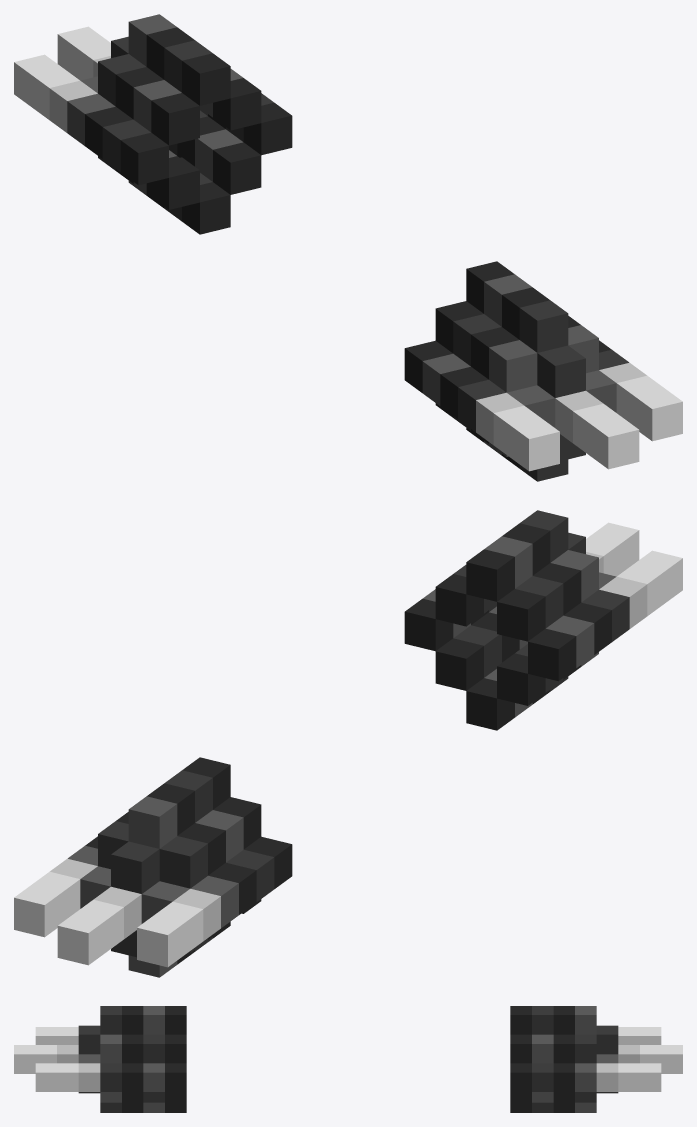
File: Brazos Mantis.obj
The picture shows the model from 3 angles, top to bottom: view 1: azimuth 30°, elevation 25°; view 2: azimuth 150°, elevation 25°; view 3: azimuth 270°, elevation 25°; orthographic projection. The views are drawn at different scales.
Bounding box in the file's own units: 0.5 × 0.5 × 3.1.
